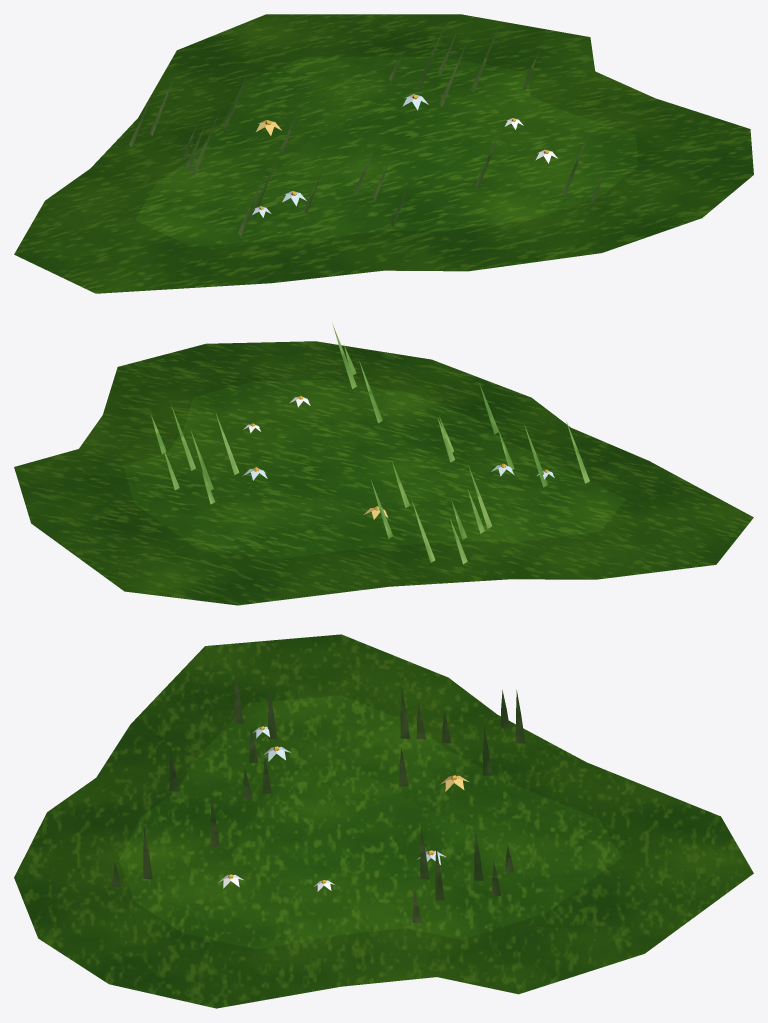
The model's file is turf_patch_cloud_b.glb.
3 renders of one model, top to bottom at view 1: azimuth 30°, elevation 25°; view 2: azimuth 150°, elevation 25°; view 3: azimuth 270°, elevation 25°, orthographic. The views are drawn at different scales.
Visible parts, largest first — view 1: turf_patch_cloud_b; view 2: turf_patch_cloud_b; view 3: turf_patch_cloud_b.
Part boxes in pixels (x1=…): turf_patch_cloud_b: x1=14, y1=14, x2=753, y2=293; turf_patch_cloud_b: x1=14, y1=323, x2=753, y2=605; turf_patch_cloud_b: x1=14, y1=634, x2=753, y2=1008.
Size of the model in its own units: 4.67 by 0.4576 by 3.91.
Materials: 3 (2 with a texture image).
